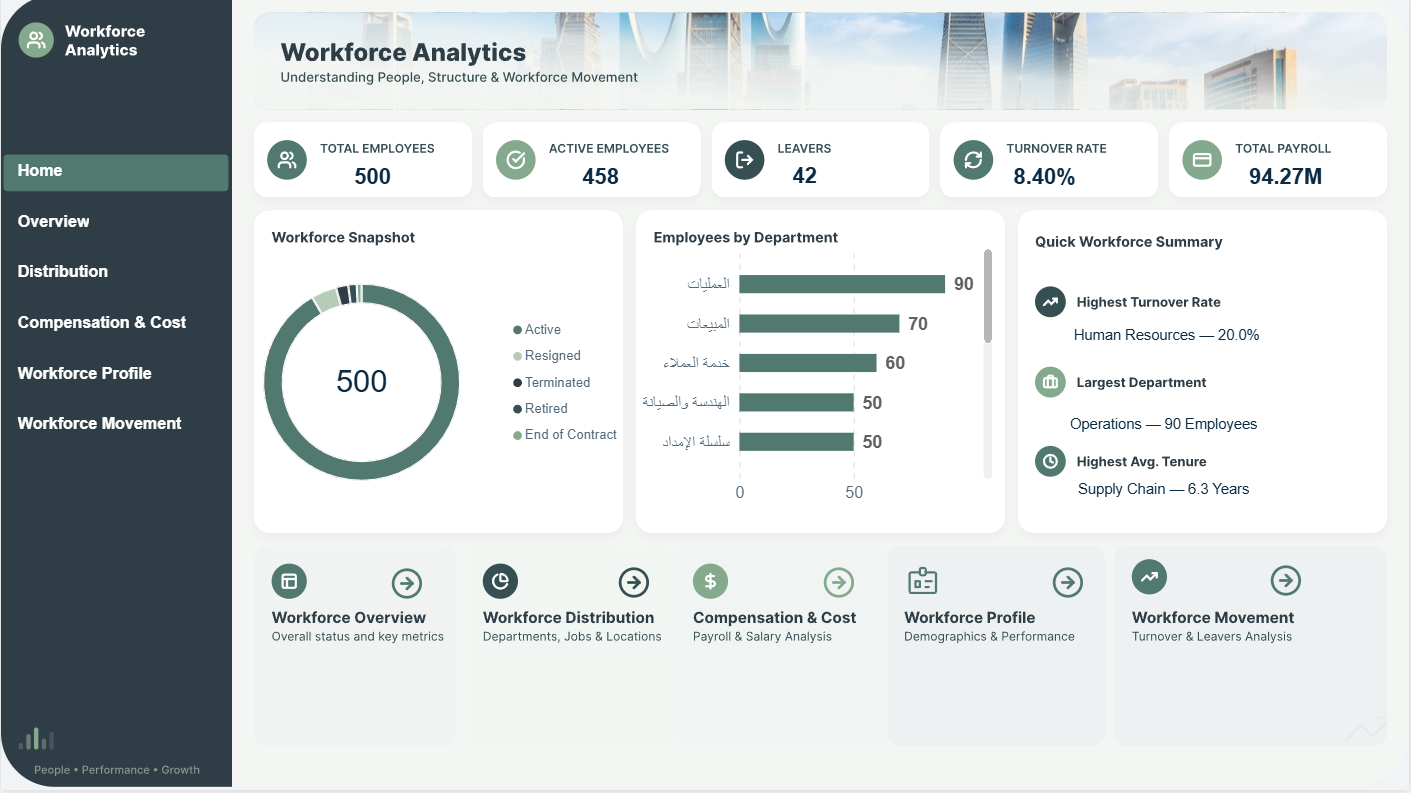

Layout of this report page (visuals, bound fields, positions):
{"tool":"powerbi","page":{"name":"Home","canvas":[1280,720],"ordinal":0},"visuals":[{"type":"donutChart","fields":{"Category":["employees.employment_status"],"Y":["measures (2).Total Employees"]},"box":[172,217,417,264],"z":0},{"type":"clusteredBarChart","fields":{"Y":["measures (2).Total Employees"],"Category":["departments.department_name_ar"]},"box":[517,200,404,281],"z":1000},{"type":"cardVisual","fields":{"Data":["measures (2).Total Employees"]},"box":[271,119.2,134,55],"z":2000},{"type":"cardVisual","fields":{"Data":["measures (2).Active Employees"]},"box":[478,119.2,134,55],"z":3000},{"type":"cardVisual","fields":{"Data":["measures (2).not active Employees"]},"box":[663.6,118.2,134,55],"z":4000},{"type":"cardVisual","fields":{"Data":["measures (2).Overall Rate"]},"box":[882,119.2,134,55],"z":5000},{"type":"cardVisual","fields":{"Data":["measures (2).Total Payroll"]},"box":[1101,119.2,134,55],"z":6000},{"type":"cardVisual","fields":{"Data":["measures (2).Highest Turnover Rate"]},"box":[943,268,234,47],"z":7000},{"type":"cardVisual","fields":{"Data":["measures (2).Highest Avg. Tenure"]},"box":[940,408,234,47],"z":8000},{"type":"cardVisual","fields":{"Data":["measures (2).Largest Department"]},"box":[940,349,234,47],"z":9000},{"type":"pageNavigator","box":[0,140,210,268.2],"z":10000},{"type":"image","box":[320,497,98,70],"z":15000},{"type":"image","box":[526.4,496.4,98,70],"z":15001},{"type":"image","box":[712.7,496.4,98,70],"z":15002},{"type":"image","box":[920.9,496.4,98,70],"z":15003},{"type":"image","box":[1119.1,494.5,98.2,70],"z":15004}]}

Visuals, with their boxes on the page's 1280x720 design canvas (x1, y1, x2, y2). These are canvas units, not pixel positions in the 1411x793 screenshot, which may show the page scaled, cropped or inside an application window:
donutChart - employees.employment_status x measures (2).Total Employees: (x1=172, y1=217, x2=589, y2=481)
clusteredBarChart - measures (2).Total Employees x departments.department_name_ar: (x1=517, y1=200, x2=921, y2=481)
cardVisual - measures (2).Total Employees: (x1=271, y1=119, x2=405, y2=174)
cardVisual - measures (2).Active Employees: (x1=478, y1=119, x2=612, y2=174)
cardVisual - measures (2).not active Employees: (x1=664, y1=118, x2=798, y2=173)
cardVisual - measures (2).Overall Rate: (x1=882, y1=119, x2=1016, y2=174)
cardVisual - measures (2).Total Payroll: (x1=1101, y1=119, x2=1235, y2=174)
cardVisual - measures (2).Highest Turnover Rate: (x1=943, y1=268, x2=1177, y2=315)
cardVisual - measures (2).Highest Avg. Tenure: (x1=940, y1=408, x2=1174, y2=455)
cardVisual - measures (2).Largest Department: (x1=940, y1=349, x2=1174, y2=396)
pageNavigator: (x1=0, y1=140, x2=210, y2=408)
image: (x1=320, y1=497, x2=418, y2=567)
image: (x1=526, y1=496, x2=624, y2=566)
image: (x1=713, y1=496, x2=811, y2=566)
image: (x1=921, y1=496, x2=1019, y2=566)
image: (x1=1119, y1=494, x2=1217, y2=564)
